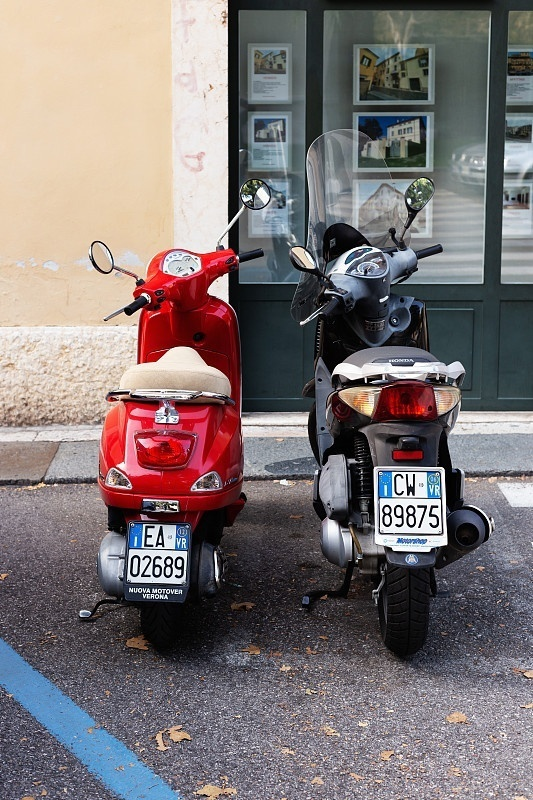non-vehicle: (295, 219, 480, 645), (90, 242, 252, 625)
